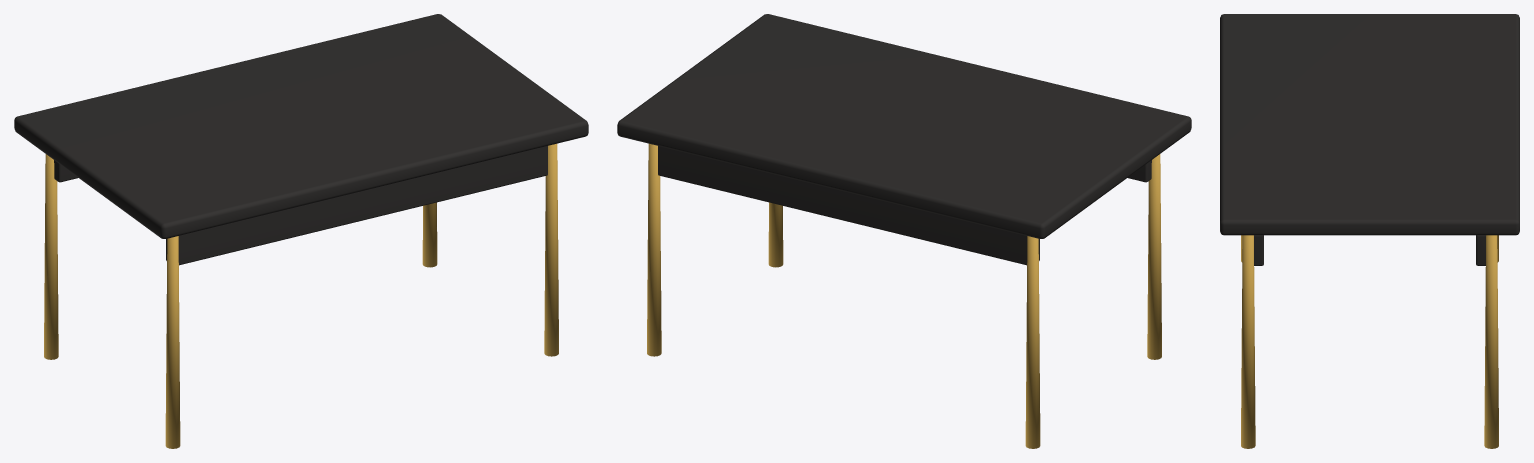
File: table.glb
The picture shows the model from 3 angles, left to right: view 1: azimuth 30°, elevation 25°; view 2: azimuth 150°, elevation 25°; view 3: azimuth 270°, elevation 25°; orthographic projection.
Parts seen in each view (by area): view 1: top; view 2: top; view 3: top.
Boxes of the visible parts, left/top/right/bottom form: top: left=14, top=14, right=588, bottom=448; top: left=617, top=14, right=1191, bottom=448; top: left=1220, top=14, right=1519, bottom=448.
Bounding box in the file's own units: 1.4 × 0.74 × 0.85.
